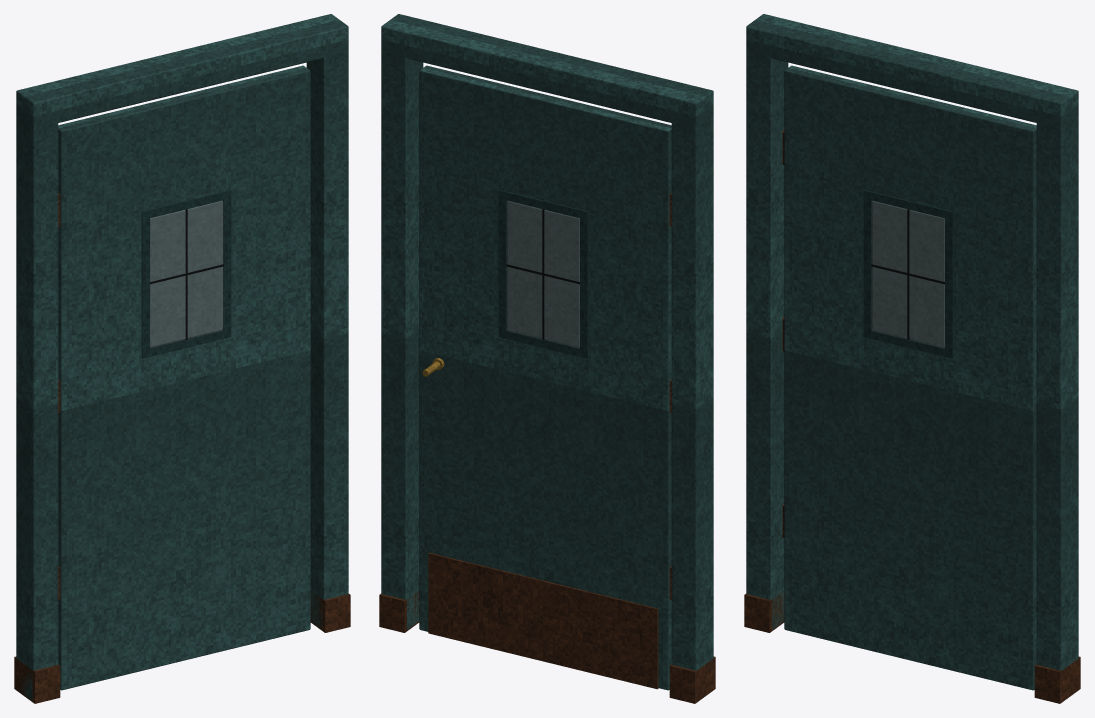
Rendered from door_ward.glb.
3 views of the same model, side by side, from view 1: azimuth 30°, elevation 25°; view 2: azimuth 150°, elevation 25°; view 3: azimuth 330°, elevation 25° (orthographic).
Visible parts, largest first — view 1: leaf, frame; view 2: leaf, frame; view 3: leaf, frame.
Boxes of the visible parts, x1,y1,x2,y2 form: leaf: (58, 65, 310, 690); frame: (14, 14, 350, 703); leaf: (419, 65, 671, 690); frame: (379, 14, 715, 703); leaf: (782, 65, 1036, 690); frame: (744, 14, 1080, 703).
Size of the model in its own units: 1.24 by 2.25 by 0.19.
6 materials, 6 textured.
